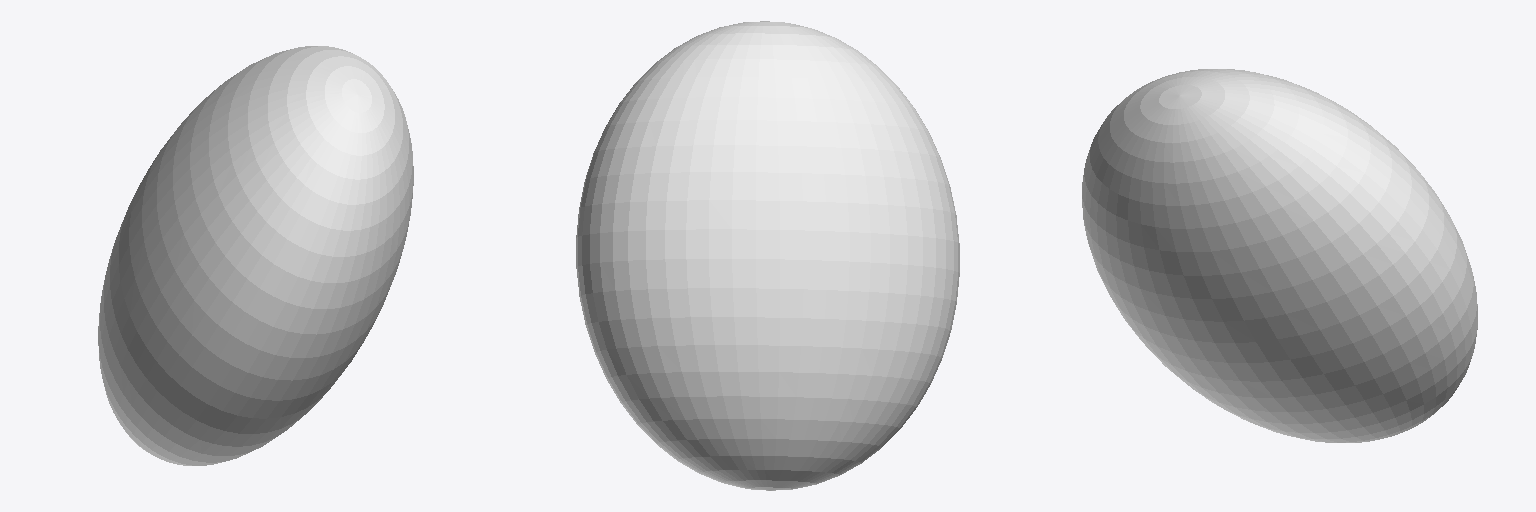
File: WhiteEyeL.obj
3 views of the same model, side by side, from view 1: azimuth 30°, elevation 25°; view 2: azimuth 150°, elevation 25°; view 3: azimuth 270°, elevation 25° (orthographic).
Visible parts, largest first — view 1: Lefteyewhitehighlight1; view 2: Lefteyewhitehighlight1; view 3: Lefteyewhitehighlight1.
Boxes of the visible parts, box(x1,y1,x2,y2) form: Lefteyewhitehighlight1: box(98, 46, 413, 465); Lefteyewhitehighlight1: box(576, 21, 959, 490); Lefteyewhitehighlight1: box(1082, 69, 1477, 442).
Size of the model in its own units: 1.31 by 1.7 by 1.55.